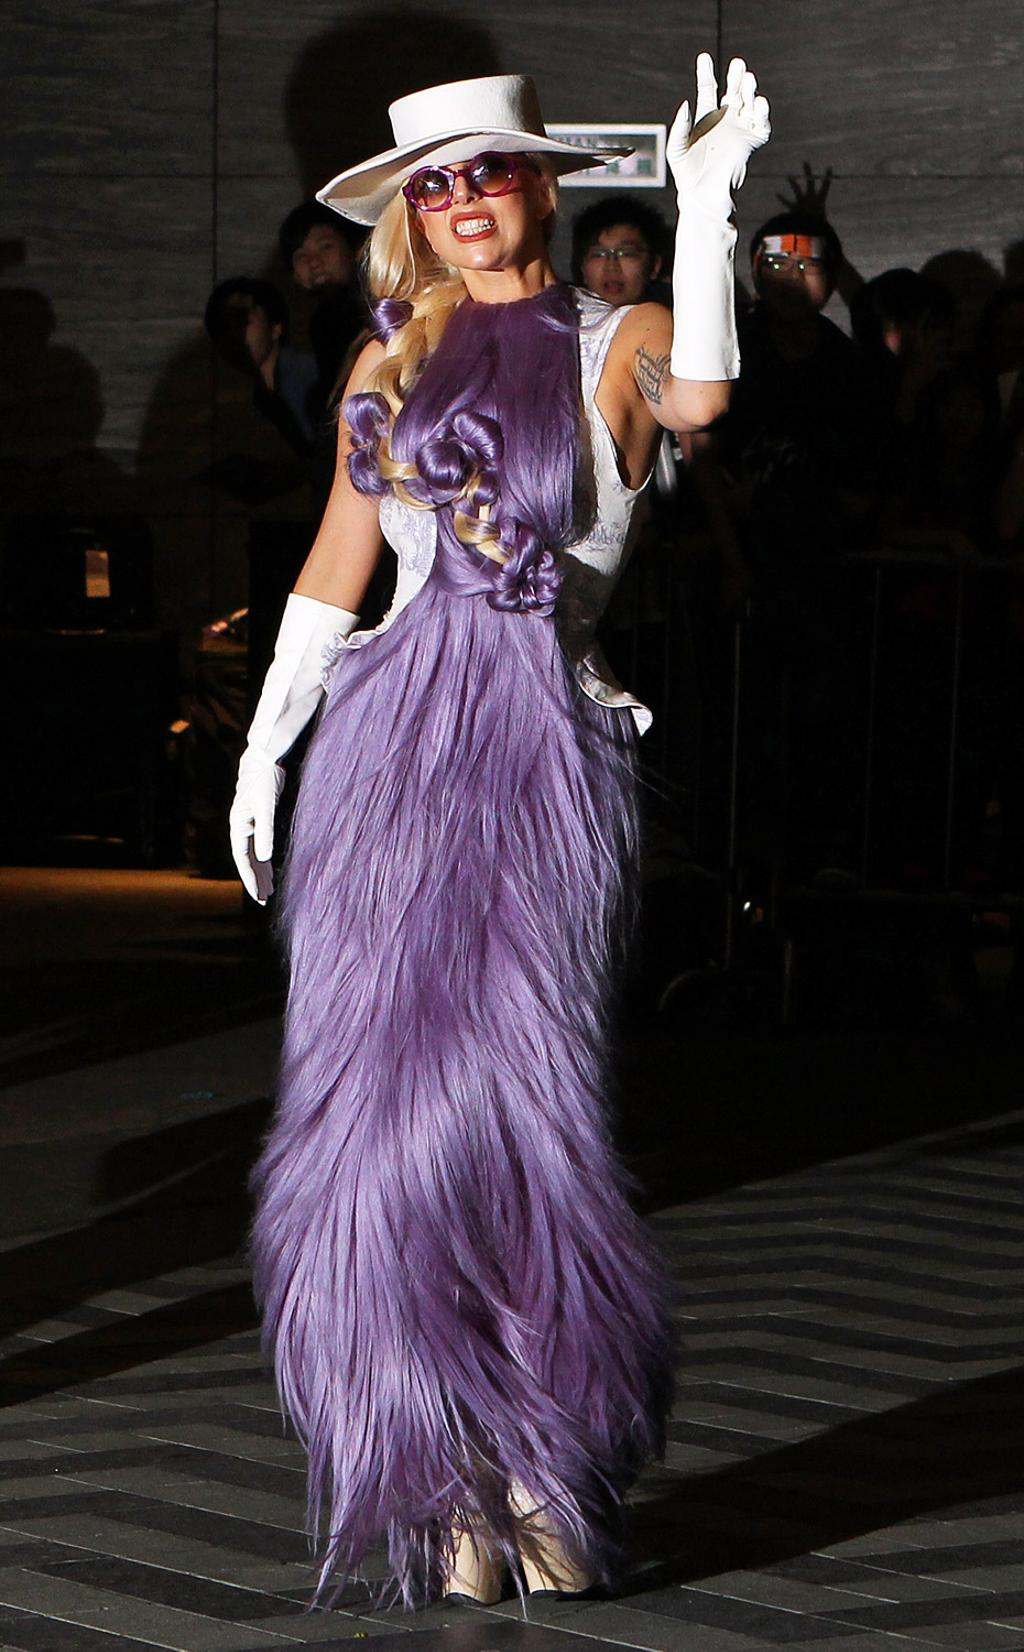face: (414, 134, 532, 265), (757, 239, 830, 313), (585, 226, 651, 307), (292, 227, 351, 294), (222, 302, 267, 368)
